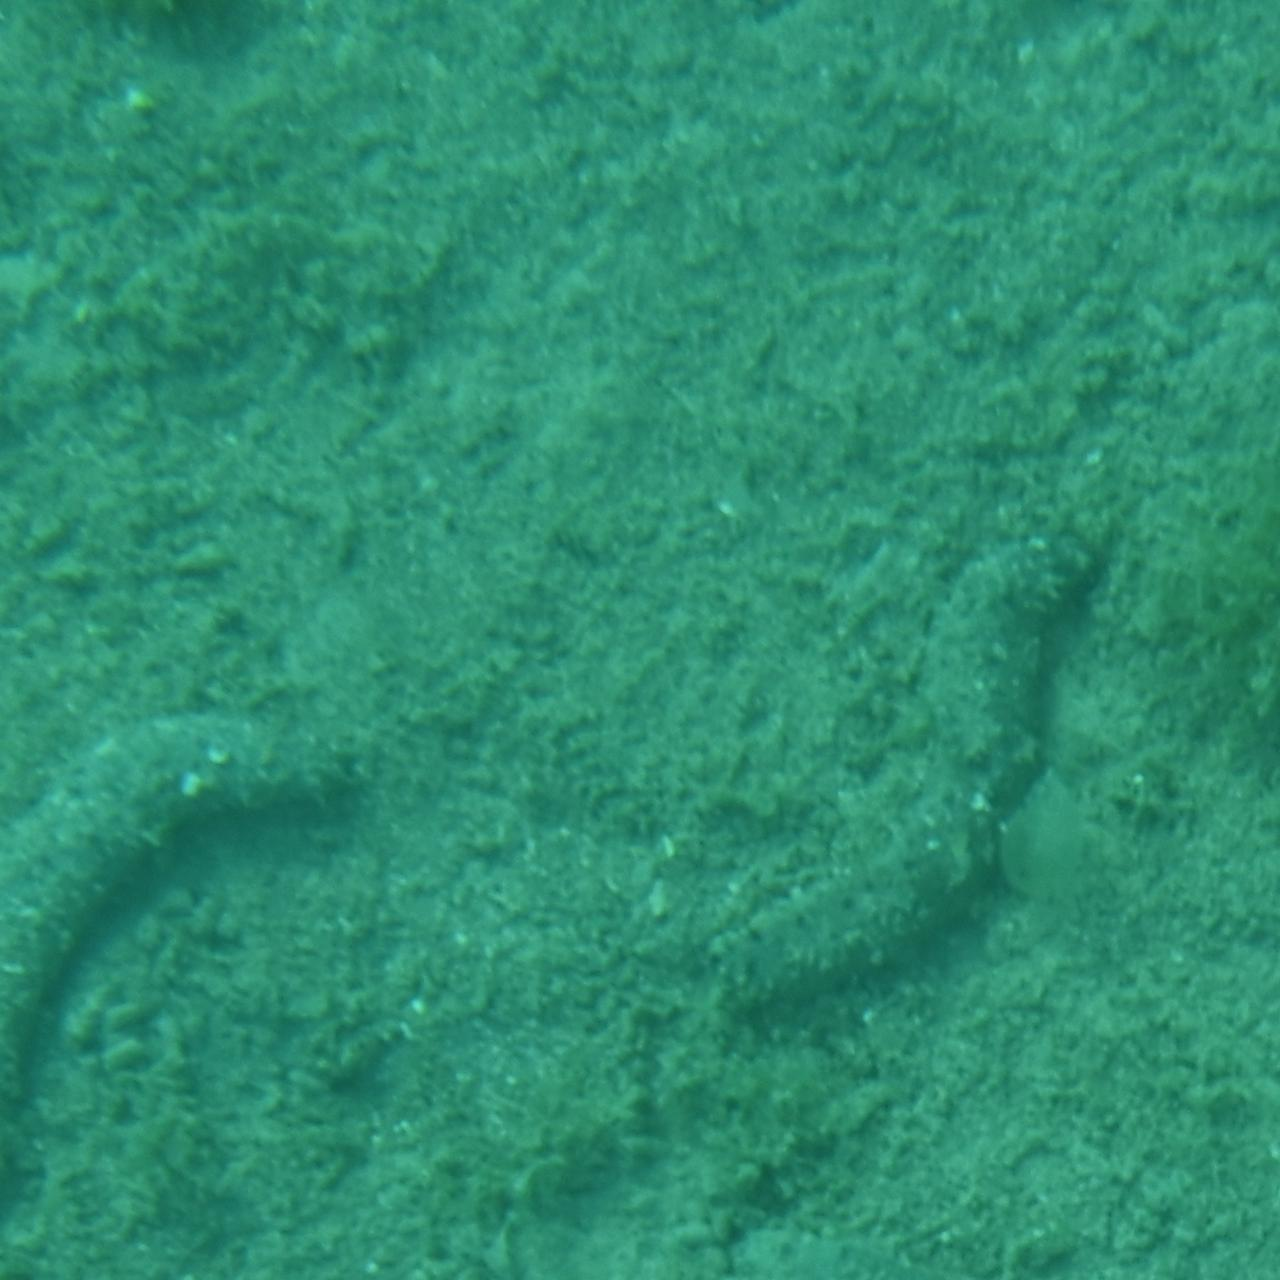Holothuria tubulosa: (735, 531, 1117, 1024), (0, 722, 368, 1225), (730, 1063, 1159, 1280), (884, 0, 1280, 69)
